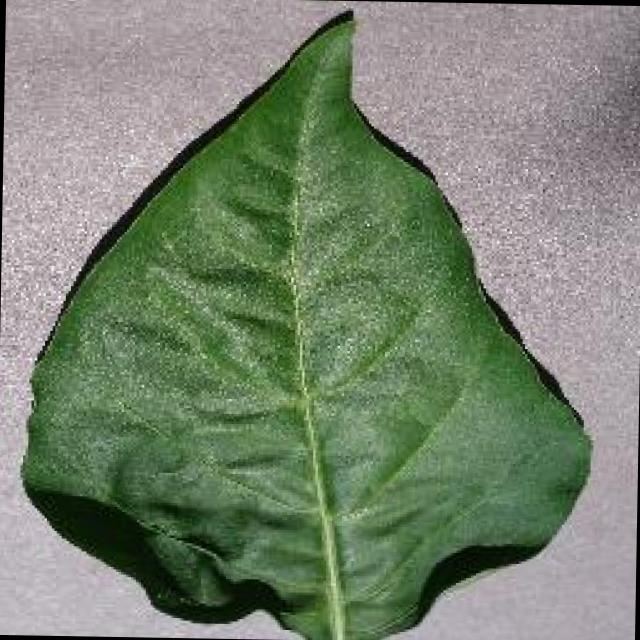Chilli_Healthy: (14, 0, 600, 640)
